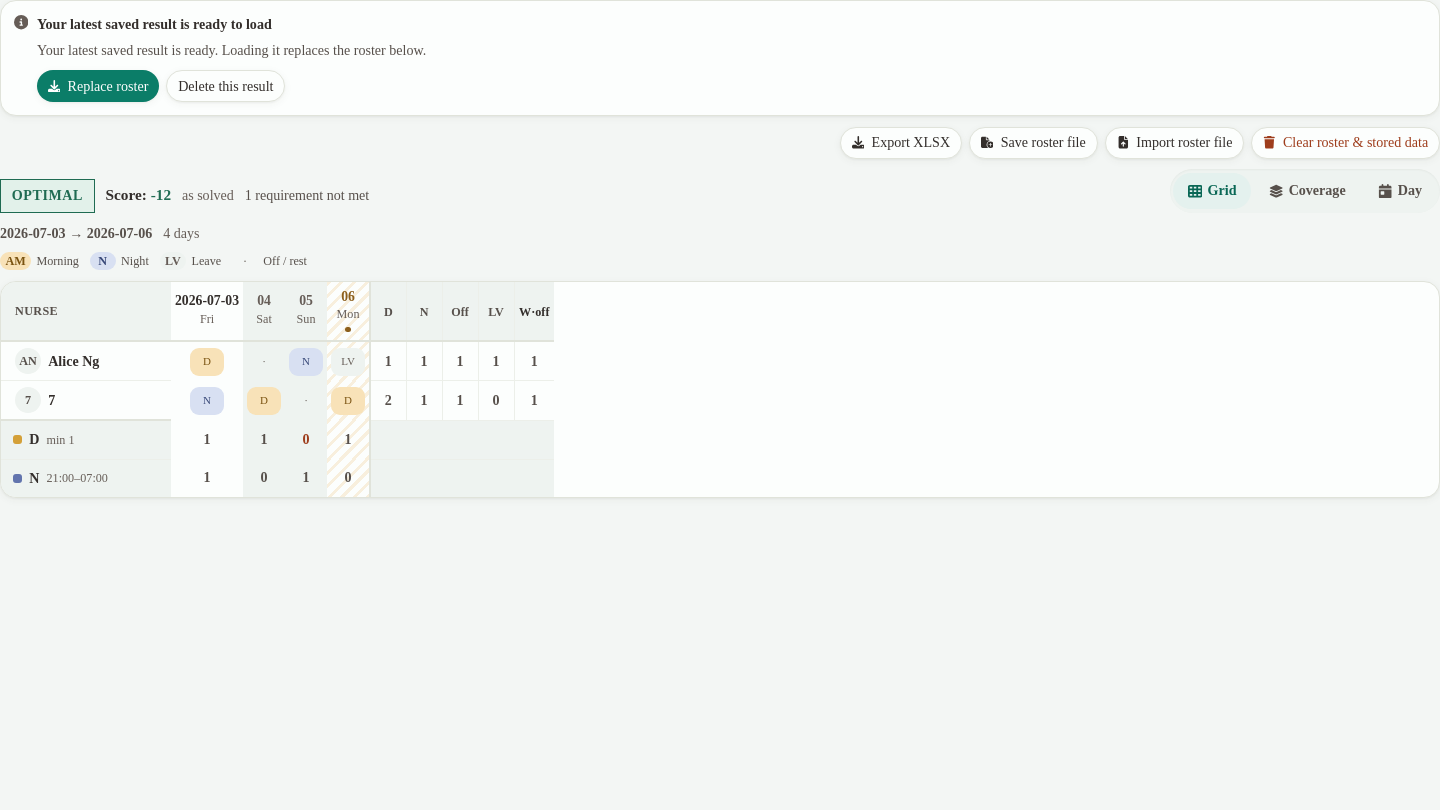
Test: RosterSection — replacing a working roster › does NOT promote until the replacement is confirmed
Click the button with test id "roster-candidate-load" at (98, 86), box x1=37 y1=70 x2=159 y2=102
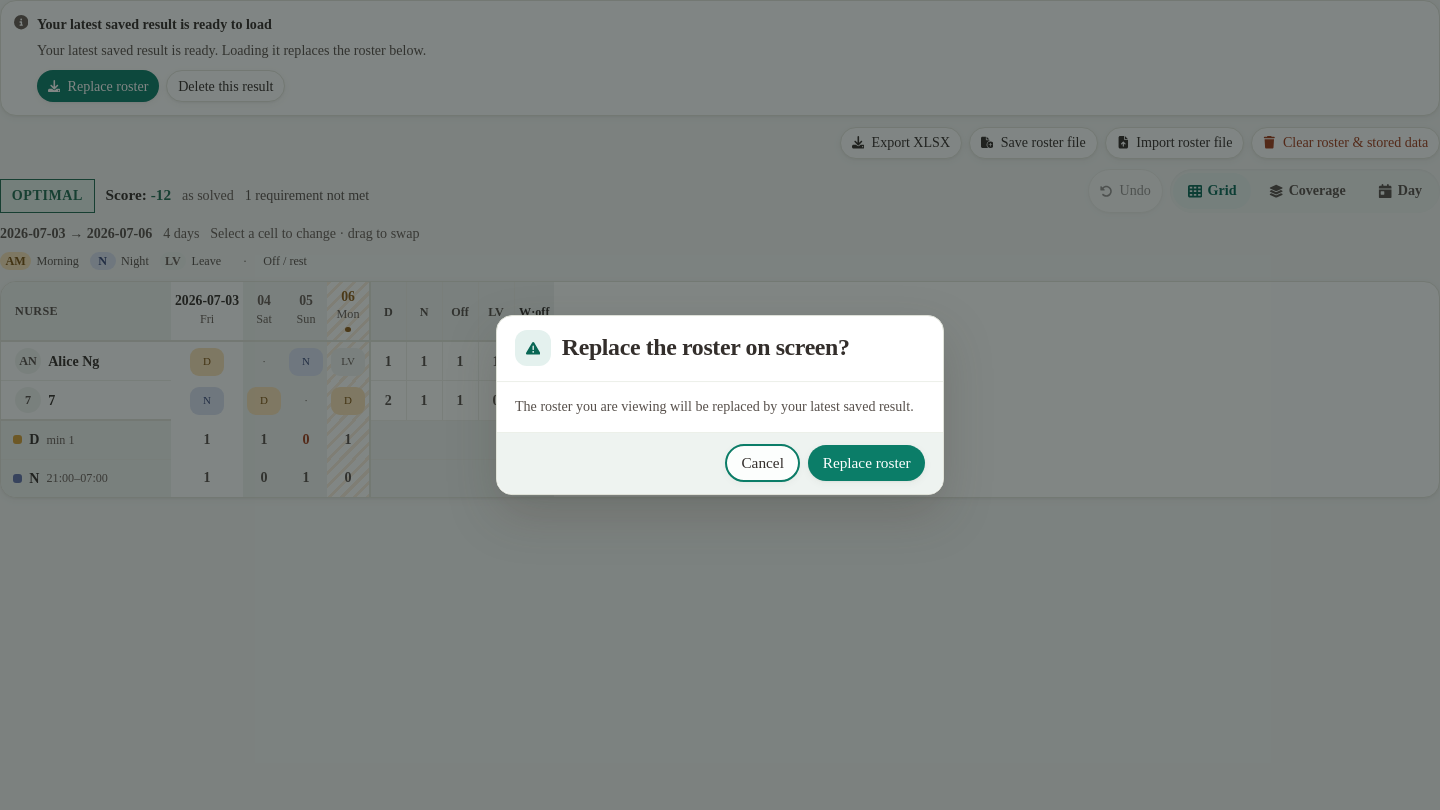
Expected: the dialog with test id "confirm-dialog" is shown, x1=496 y1=315 x2=944 y2=495
